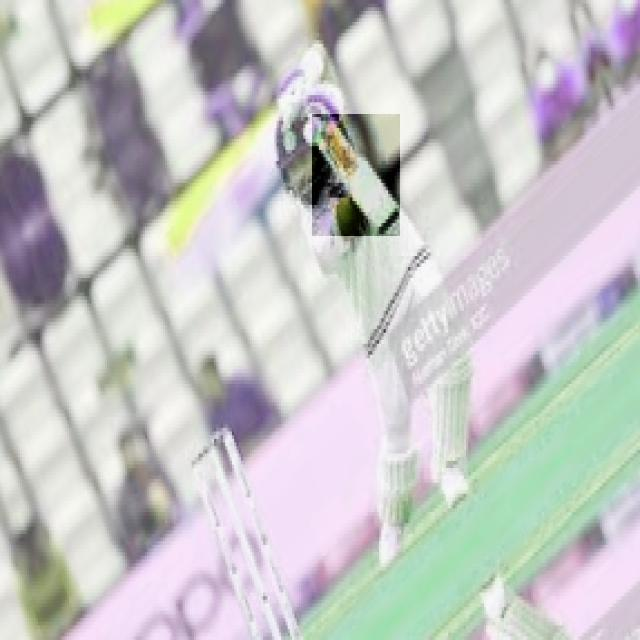bat: (316, 113, 404, 235)
toe: (372, 203, 408, 239)
